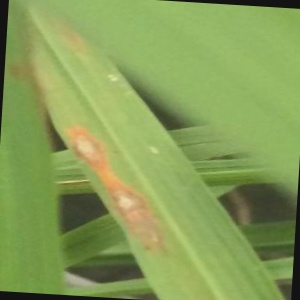Brown_Spot: (93, 176, 177, 250), (62, 113, 110, 168)
